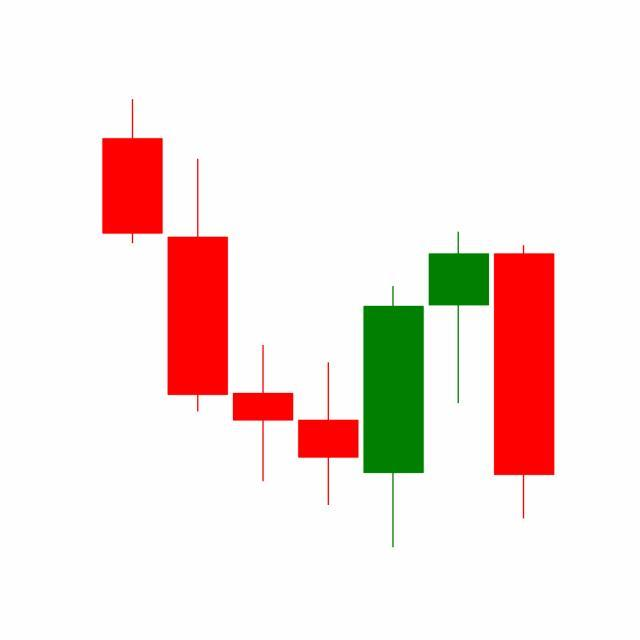Evening Star: (360, 227, 556, 549)
